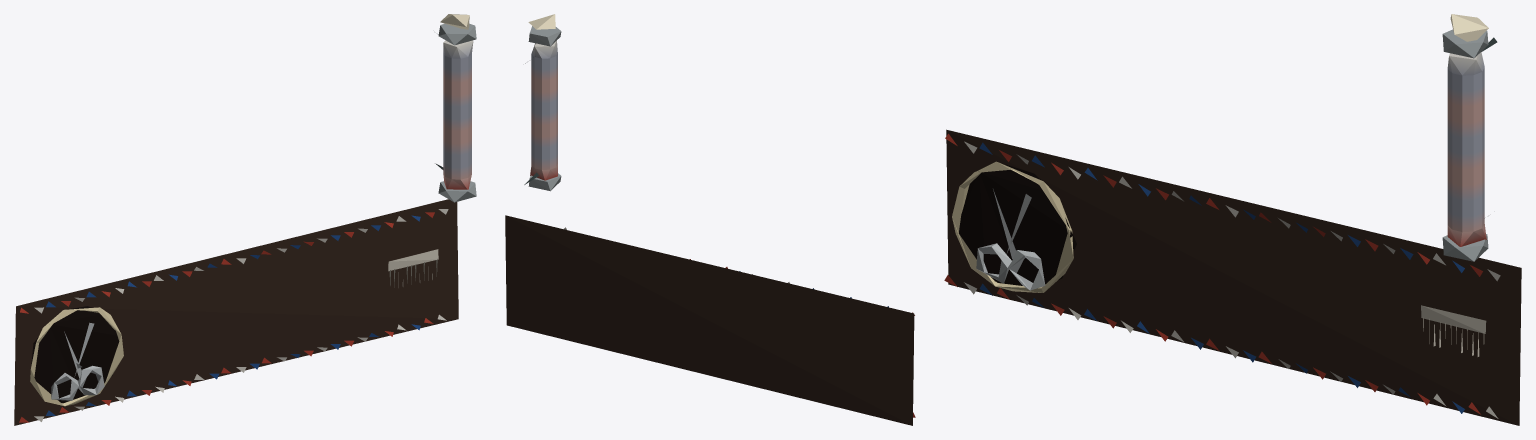
Rendered from bang_hot_toc_anh_ba_48.glb.
3 views of the same model, side by side, from view 1: azimuth 30°, elevation 25°; view 2: azimuth 150°, elevation 25°; view 3: azimuth 330°, elevation 25° (orthographic). The views are drawn at different scales.
Visible parts, largest first — view 1: bang_hot_toc_anh_ba_48; view 2: bang_hot_toc_anh_ba_48; view 3: bang_hot_toc_anh_ba_48.
Part boxes in pixels (box(x1,y1,x2,y2)): bang_hot_toc_anh_ba_48: box(14, 14, 476, 425); bang_hot_toc_anh_ba_48: box(505, 14, 915, 425); bang_hot_toc_anh_ba_48: box(944, 14, 1521, 425).
Bounding box in the file's own units: 4.6 × 3.26 × 0.5854.
